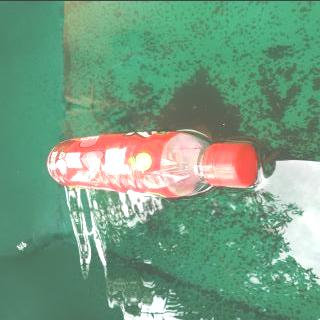bottle: (43, 128, 260, 200)
